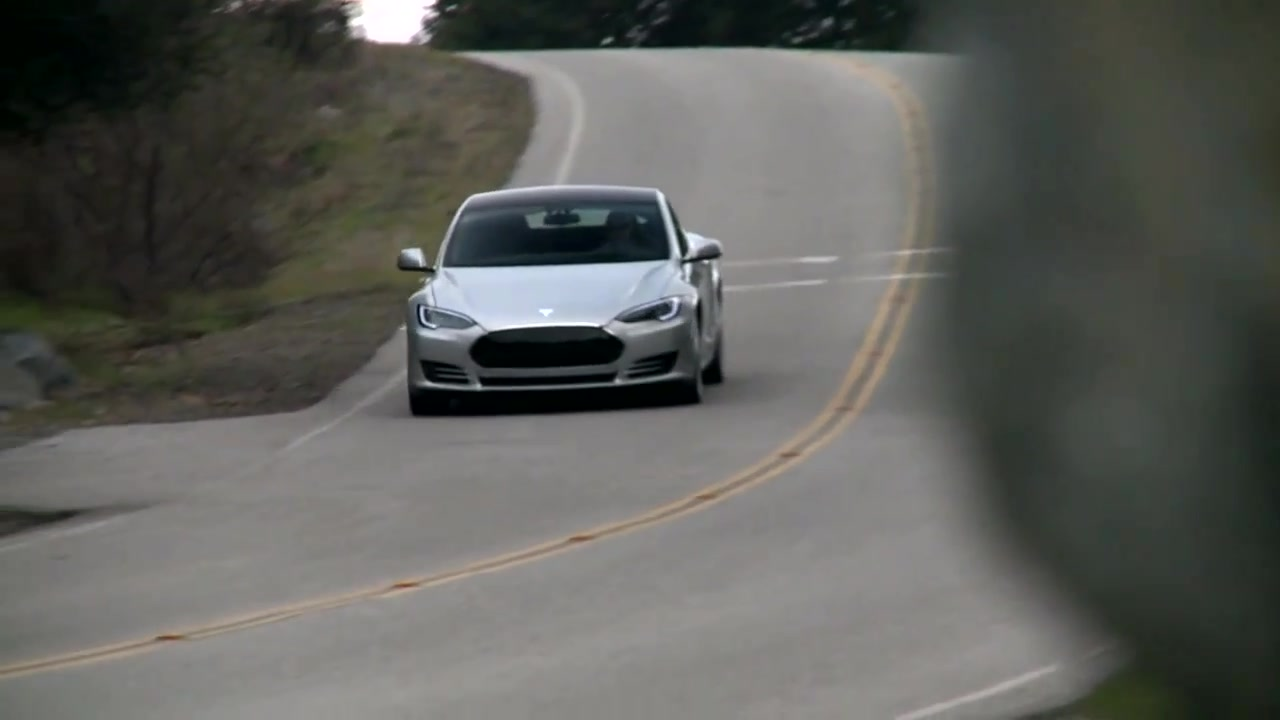car: (392, 182, 730, 411)
